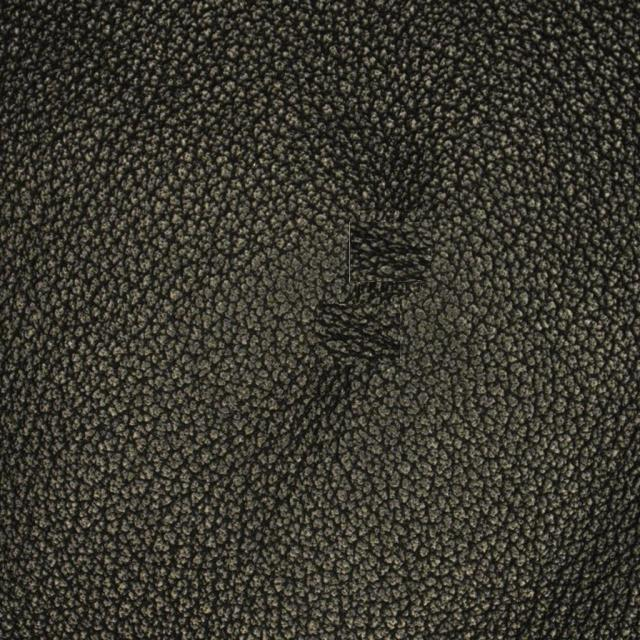Healed Injury: (271, 107, 471, 436)
